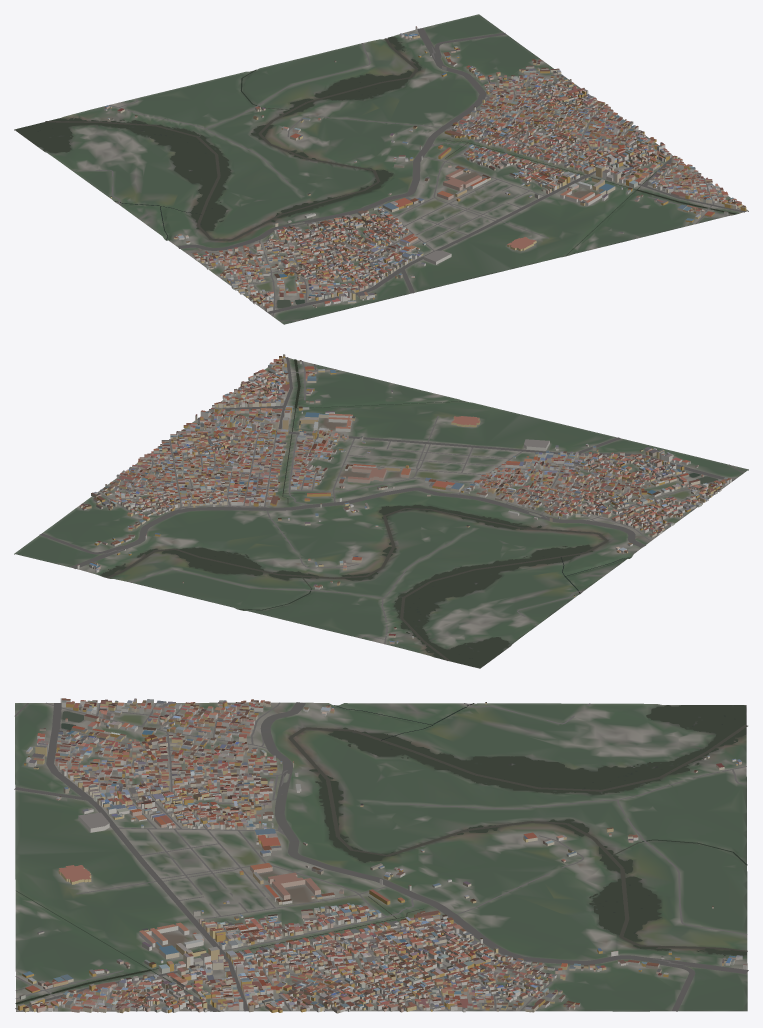
The picture shows the model from 3 angles, top to bottom: view 1: azimuth 30°, elevation 25°; view 2: azimuth 150°, elevation 25°; view 3: azimuth 270°, elevation 25°; orthographic projection. The views are drawn at different scales.
Visible parts, largest first — view 1: ground, buildings, water, roads; view 2: ground, buildings, water, roads; view 3: ground, buildings, water, roads.
Boxes of the visible parts, left/top/right/bottom form: ground: left=14, top=14, right=748, bottom=324; buildings: left=104, top=26, right=746, bottom=311; water: left=15, top=36, right=736, bottom=308; roads: left=72, top=28, right=745, bottom=321; ground: left=14, top=356, right=748, bottom=668; buildings: left=77, top=354, right=731, bottom=644; water: left=101, top=359, right=717, bottom=668; roads: left=39, top=357, right=743, bottom=644; ground: left=15, top=702, right=747, bottom=1011; buildings: left=18, top=698, right=747, bottom=1013; water: left=15, top=703, right=747, bottom=1011; roads: left=14, top=702, right=748, bottom=1011.
Bounding box in the file's own units: 1412 × 35.01 × 1408.
